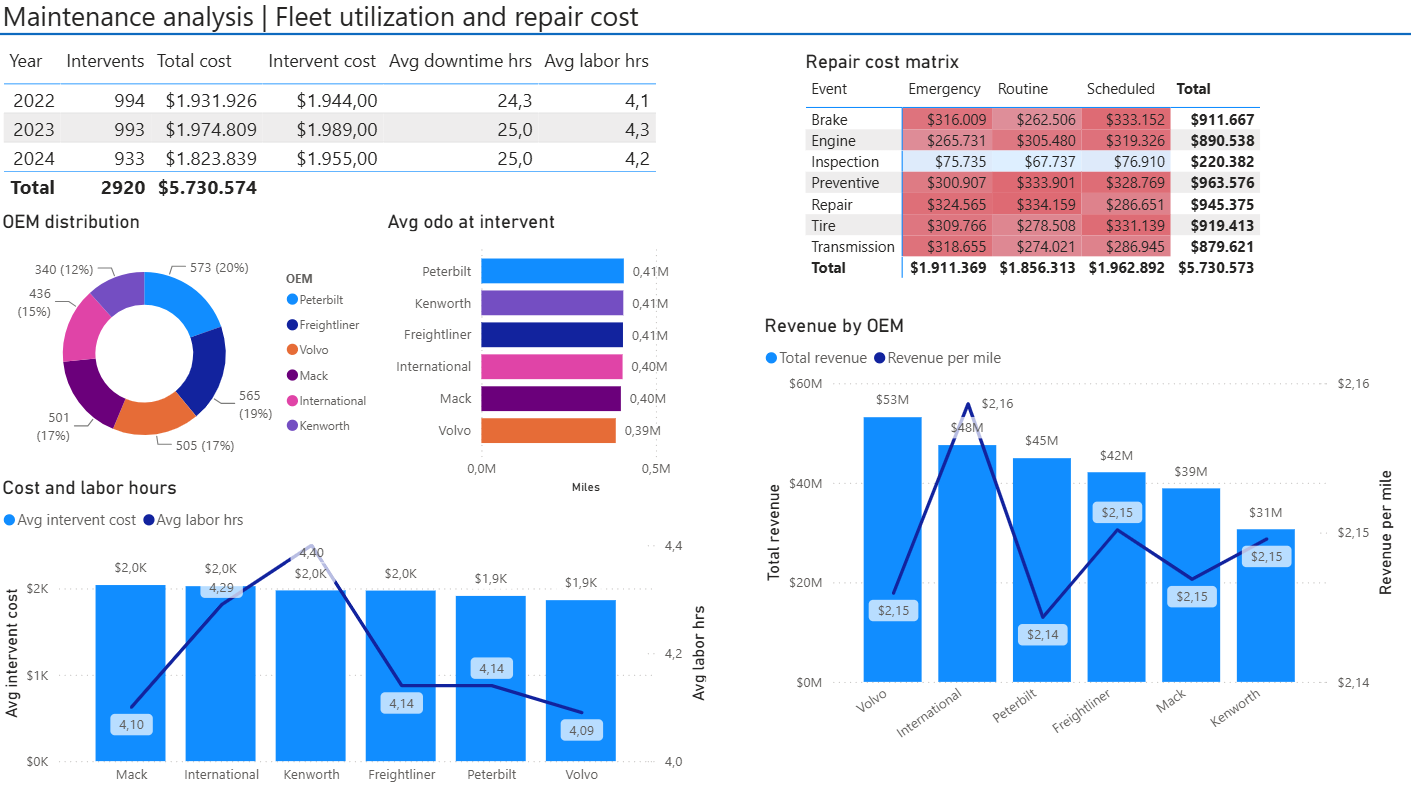

Layout of this report page (visuals, bound fields, positions):
{"tool":"powerbi","page":{"name":"MA","canvas":[1280,720],"ordinal":4},"visuals":[{"type":"textbox","box":[0,0,1279.7,44.8],"z":0},{"type":"shape","box":[0,32.2,1279.7,12.5],"z":1000},{"type":"tableEx","fields":{"Values":["maintenance_year_agg.year","Sum(maintenance_year_agg.intervents)","Sum(maintenance_year_agg.total_cost)","maintenance_year_agg.cost_per_intervent","maintenance_year_agg.downtime_hr_per_intervent","maintenance_year_agg.labor_hr_per_intervent"]},"box":[0,44.8,612.5,163.9],"z":2000},{"type":"donutChart","title":"OEM distribution","fields":{"Y":["Sum(maintenance_OEM.units)"],"Category":["maintenance_OEM.make"]},"box":[0,196.1,344.8,238.2],"z":3000},{"type":"lineStackedColumnComboChart","title":"Cost and labor hours","fields":{"Category":["maintenance_OEM.make"],"Y":["Sum(maintenance_OEM.total_cost)"],"Y2":["Sum(maintenance_OEM.labor_hr)"]},"box":[0,434.3,640.3,285.7],"z":4000},{"type":"clusteredBarChart","title":"Avg odo at intervent","fields":{"Category":["maintenance_OEM.make"],"Y":["Sum(maintenance_OEM.odo)"]},"box":[344.8,196.1,295.5,258.8],"z":5000},{"type":"pivotTable","title":"Repair cost matrix","fields":{"Rows":["maintenance_matrix.event"],"Values":["Sum(maintenance_matrix.total_cost)"],"Columns":["maintenance_matrix.Service"]},"box":[748.7,52.8,440.6,214.9],"z":6000},{"type":"lineStackedColumnComboChart","title":"Revenue by OEM","fields":{"Category":["Fleet_maintenance.make"],"Y":["Sum(Fleet_maintenance.revenue)"],"Y2":["Sum(Fleet_maintenance.Revenue_per_mile)"]},"box":[682.4,289.3,573.1,404.8],"z":7000}]}

Visuals, with their boxes in screenshot pixels (x1, y1, x2, y2), scaled from the page's 1280x720 canvas onto the 1411x790 screenshot:
textbox: left=0, top=0, right=1410, bottom=49
shape: left=0, top=35, right=1410, bottom=49
tableEx - maintenance_year_agg.year x Sum(maintenance_year_agg.intervents): left=0, top=49, right=675, bottom=229
"OEM distribution" donutChart: left=0, top=215, right=380, bottom=477
"Cost and labor hours" lineStackedColumnComboChart: left=0, top=477, right=706, bottom=789
"Avg odo at intervent" clusteredBarChart: left=380, top=215, right=706, bottom=499
"Repair cost matrix" pivotTable: left=825, top=58, right=1311, bottom=294
"Revenue by OEM" lineStackedColumnComboChart: left=752, top=317, right=1384, bottom=762
